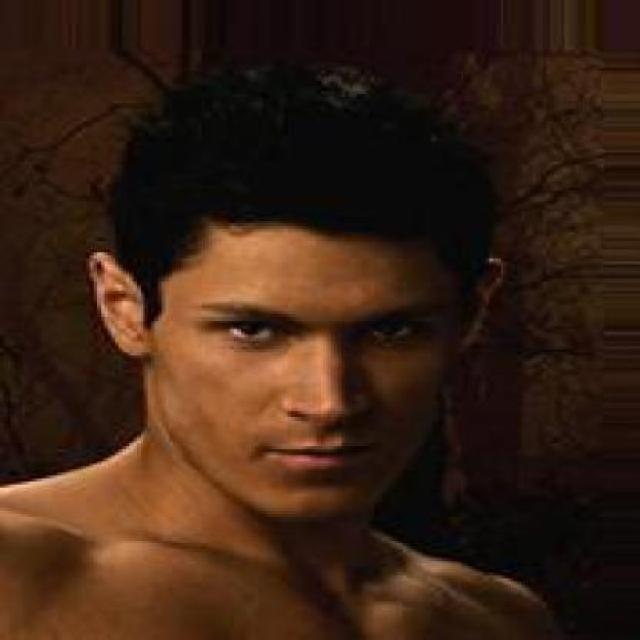closed-mouth: (256, 436, 382, 472)
